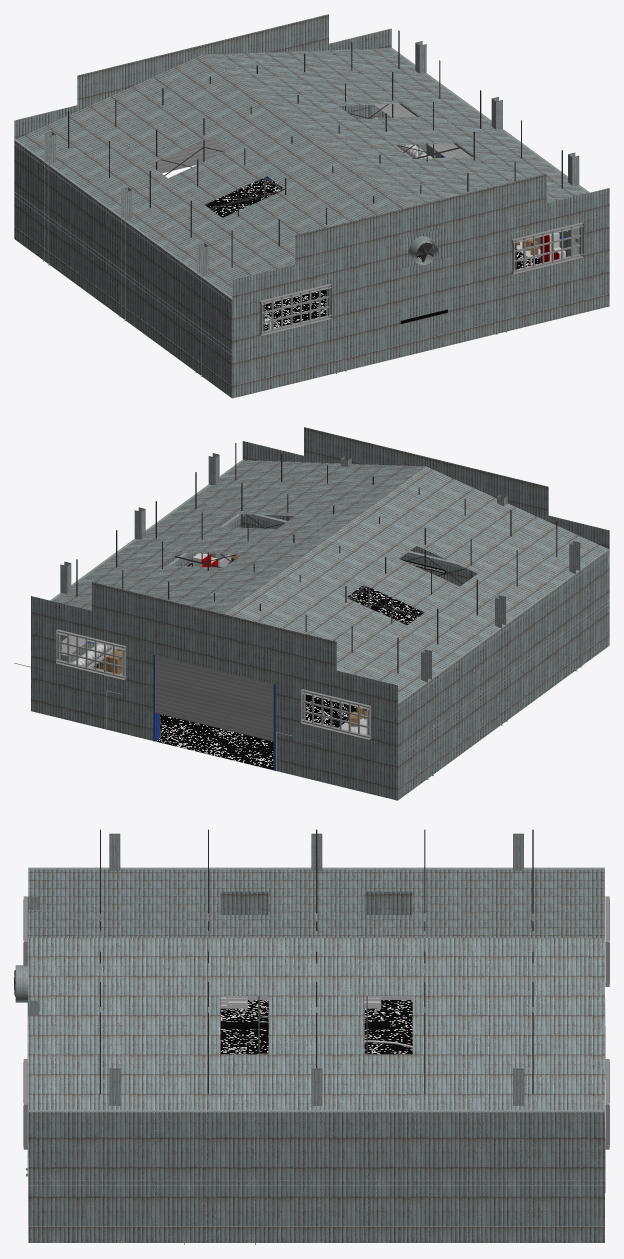
File: Garage7.fbx
3 renders of one model, top to bottom at view 1: azimuth 30°, elevation 25°; view 2: azimuth 150°, elevation 25°; view 3: azimuth 270°, elevation 25°, orthographic. The views are drawn at different scales.
Visible parts, largest first — view 1: Walls, Floor, CageTop, Window1, Window2, GarageDoor, Shelf, SidePillars4, Pillar1, Pillar1_5, Pillar1_4; view 2: Walls, GarageDoor, Floor, CageTop, Window3, Window4, SidePillars4, SidePillars3, Pillar1_4, Pillar1_5; view 3: Walls, Floor, CageTop, SidePillars4, SidePillars5, SidePillars, Fence1_1.
Boxes of the visible parts, x1,y1,x2,y2 form: Walls: (14,14,609,398); Floor: (204,178,540,330); CageTop: (68,30,562,267); Window1: (511,222,583,274); Window2: (259,283,331,335); GarageDoor: (150,136,230,173); Shelf: (369,103,470,158); SidePillars4: (14,139,232,302); Pillar1: (568,152,579,256); Pillar1_5: (43,131,55,265); Pillar1_4: (119,187,132,321); Walls: (31,427,609,800); GarageDoor: (155,655,273,741); Floor: (92,586,424,770); CageTop: (76,443,557,673); Window3: (300,689,370,739); Window4: (56,629,126,679); SidePillars4: (398,549,609,707); SidePillars3: (244,514,474,572); Pillar1_4: (495,595,507,725); Pillar1_5: (421,649,433,779); Walls: (28,869,604,1242); Floor: (220,1000,412,1054); CageTop: (100,829,533,1093); SidePillars4: (28,867,604,869); SidePillars5: (28,1110,604,1111); SidePillars: (28,1180,604,1185); Fence1_1: (28,1226,604,1226).
Bounding box in the file's own units: 420 × 154 × 413.
